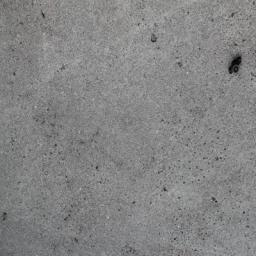FOD: (228, 53, 245, 78)
